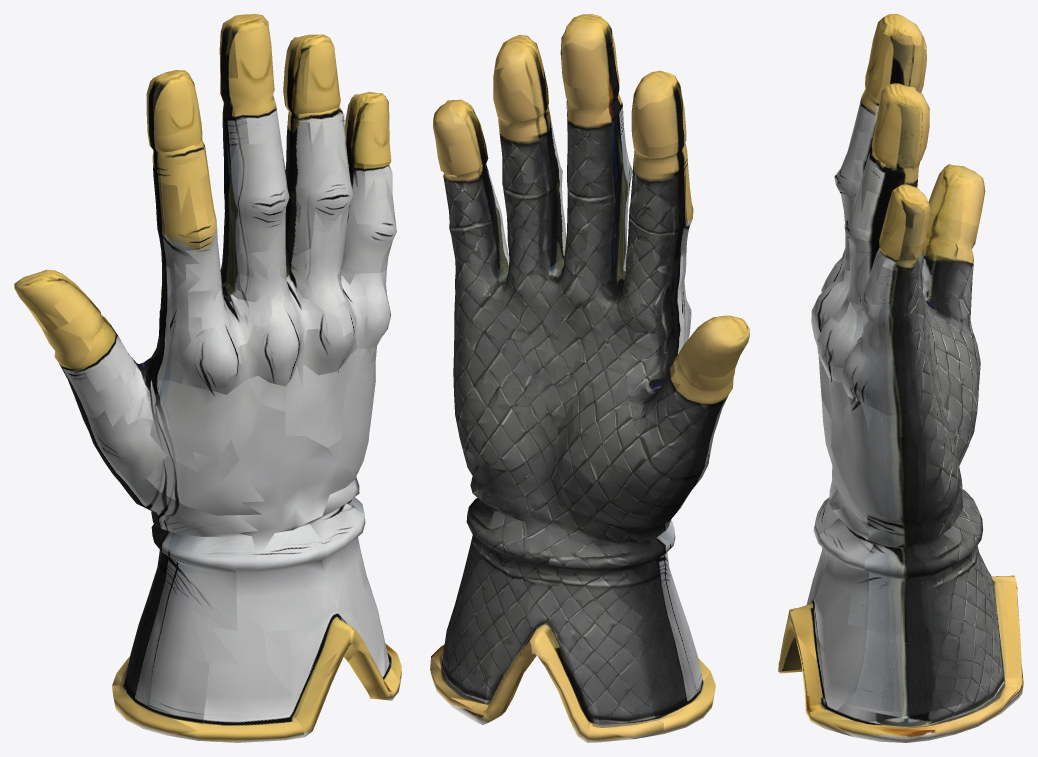
Rendered from midas_glove.glb.
3 views of the same model, side by side, from view 1: azimuth 30°, elevation 25°; view 2: azimuth 150°, elevation 25°; view 3: azimuth 270°, elevation 25° (orthographic). The views are drawn at different scales.
Bounding box in the file's own units: 0.5293 × 1 × 0.3398.
Materials: 1 (1 with a texture image).
